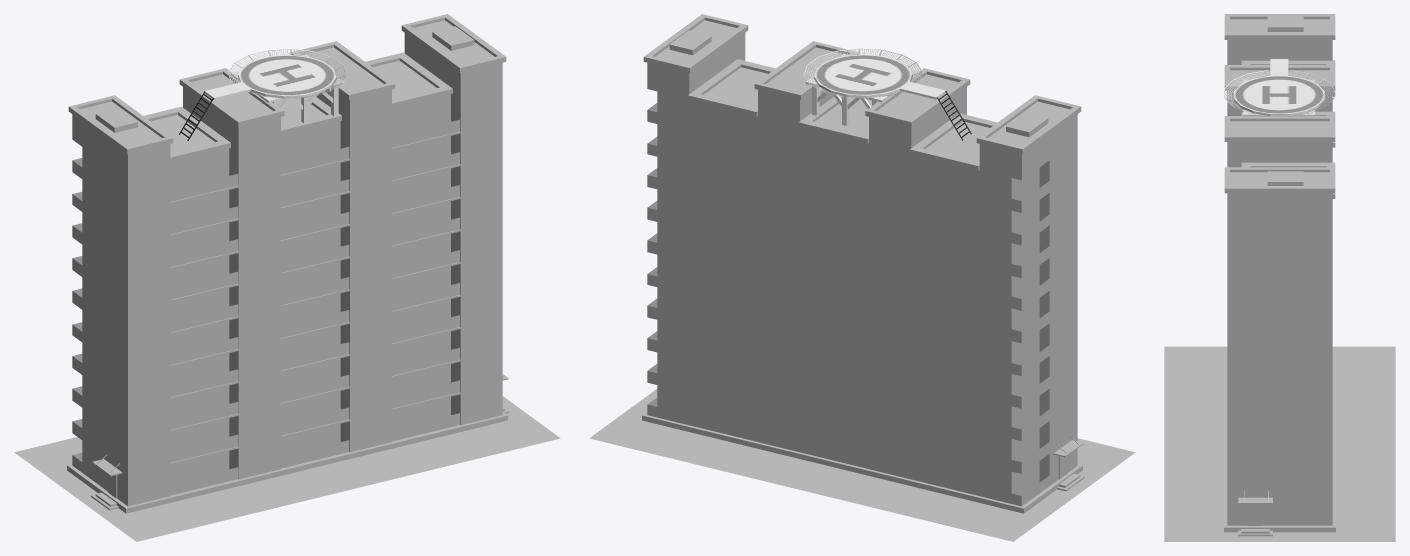
The model's file is Condominium_Huge.fbx.
3 views of the same model, side by side, from view 1: azimuth 30°, elevation 25°; view 2: azimuth 150°, elevation 25°; view 3: azimuth 270°, elevation 25° (orthographic). The views are drawn at different scales.
Visible parts, largest first — view 1: Condominium_Huge, Condominium_Huge_BG, HelicopterPlace_001, Condominium_Huge_Balcony, HelicopterPlace_Alpha_DoubleSided_001; view 2: Condominium_Huge, Condominium_Huge_BG, Condominium_Huge_Balcony, HelicopterPlace_001, HelicopterPlace_Alpha_DoubleSided_001; view 3: Condominium_Huge, Condominium_Huge_BG, Condominium_Huge_Balcony, HelicopterPlace_001, HelicopterPlace_Alpha_DoubleSided_001.
Part boxes in pixels (x1=…): Condominium_Huge: x1=67, y1=14, x2=509, y2=513; Condominium_Huge_BG: x1=14, y1=396, x2=560, y2=541; HelicopterPlace_001: x1=179, y1=54, x2=344, y2=140; Condominium_Huge_Balcony: x1=72, y1=158, x2=100, y2=485; HelicopterPlace_Alpha_DoubleSided_001: x1=228, y1=48, x2=346, y2=98; Condominium_Huge: x1=642, y1=14, x2=1084, y2=513; Condominium_Huge_BG: x1=589, y1=389, x2=1135, y2=541; Condominium_Huge_Balcony: x1=647, y1=103, x2=1049, y2=506; HelicopterPlace_001: x1=805, y1=54, x2=971, y2=140; HelicopterPlace_Alpha_DoubleSided_001: x1=803, y1=48, x2=922, y2=98; Condominium_Huge: x1=1224, y1=14, x2=1335, y2=536; Condominium_Huge_BG: x1=1164, y1=346, x2=1395, y2=541; Condominium_Huge_Balcony: x1=1280, y1=237, x2=1332, y2=525; HelicopterPlace_001: x1=1234, y1=59, x2=1324, y2=116; HelicopterPlace_Alpha_DoubleSided_001: x1=1224, y1=70, x2=1334, y2=116.
Size of the model in its own units: 4000 by 3350 by 2000.
